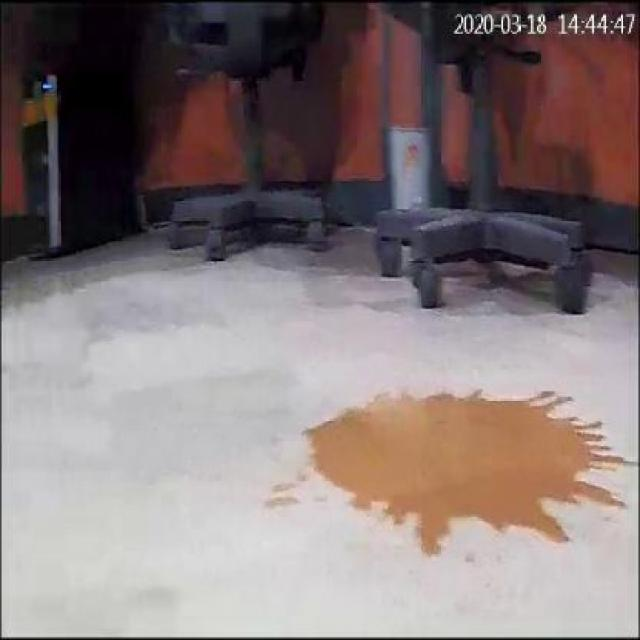spill: (299, 386, 630, 571)
